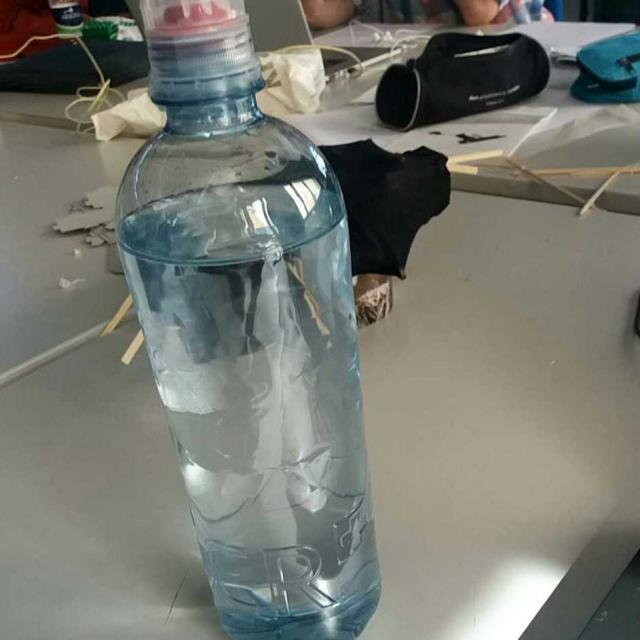water: (120, 181, 380, 617)
